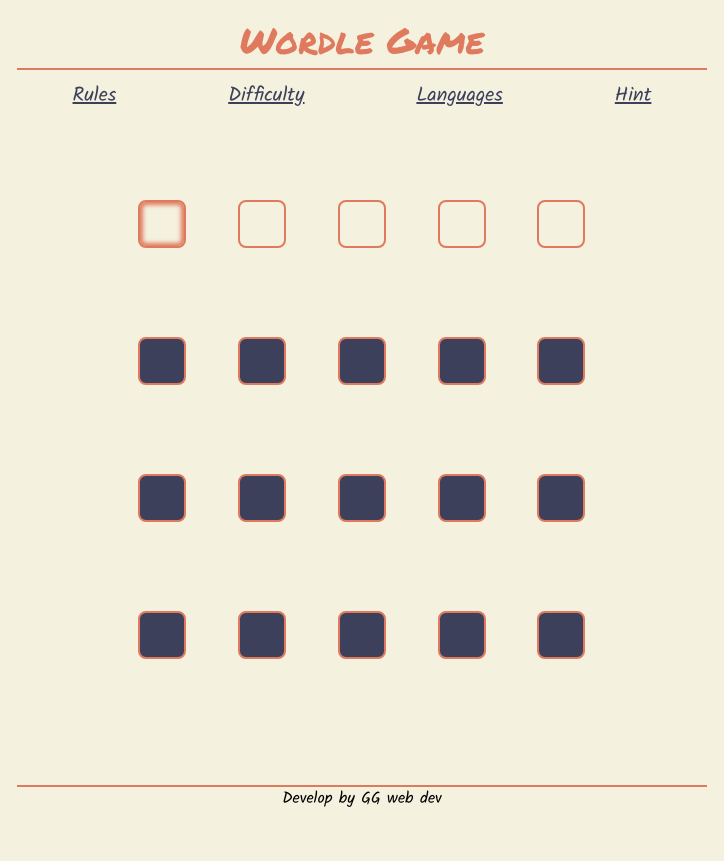
Test: WordleBoard › Set options › Option show rules content
This screenshot has width=724, height=861.
Click the heading "Rules" at (94, 96), box [72,82,116,110]
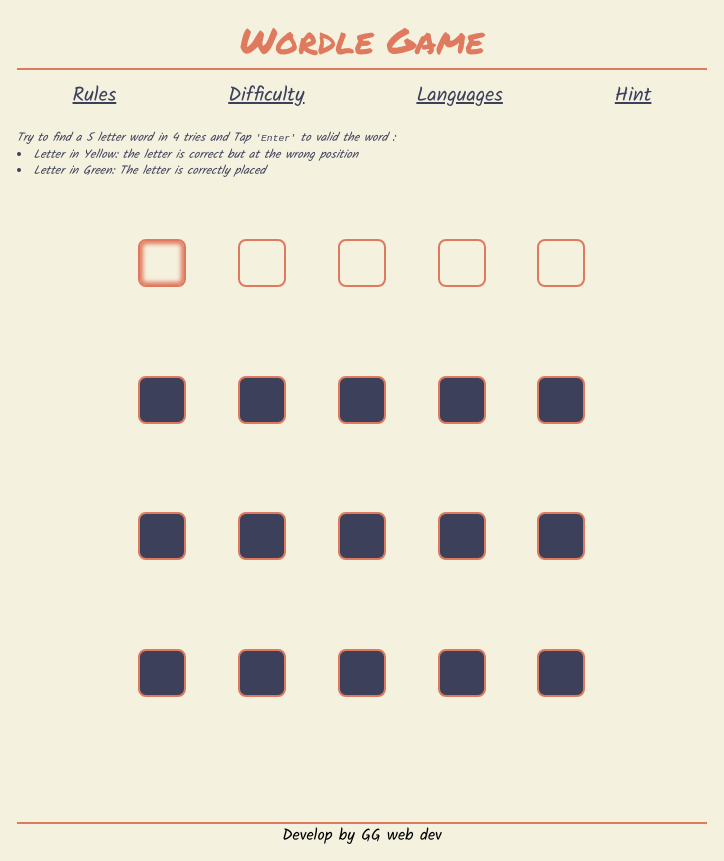
Check: the element with class "rules_container" shows "Try to find a", box [17,128,255,147]
